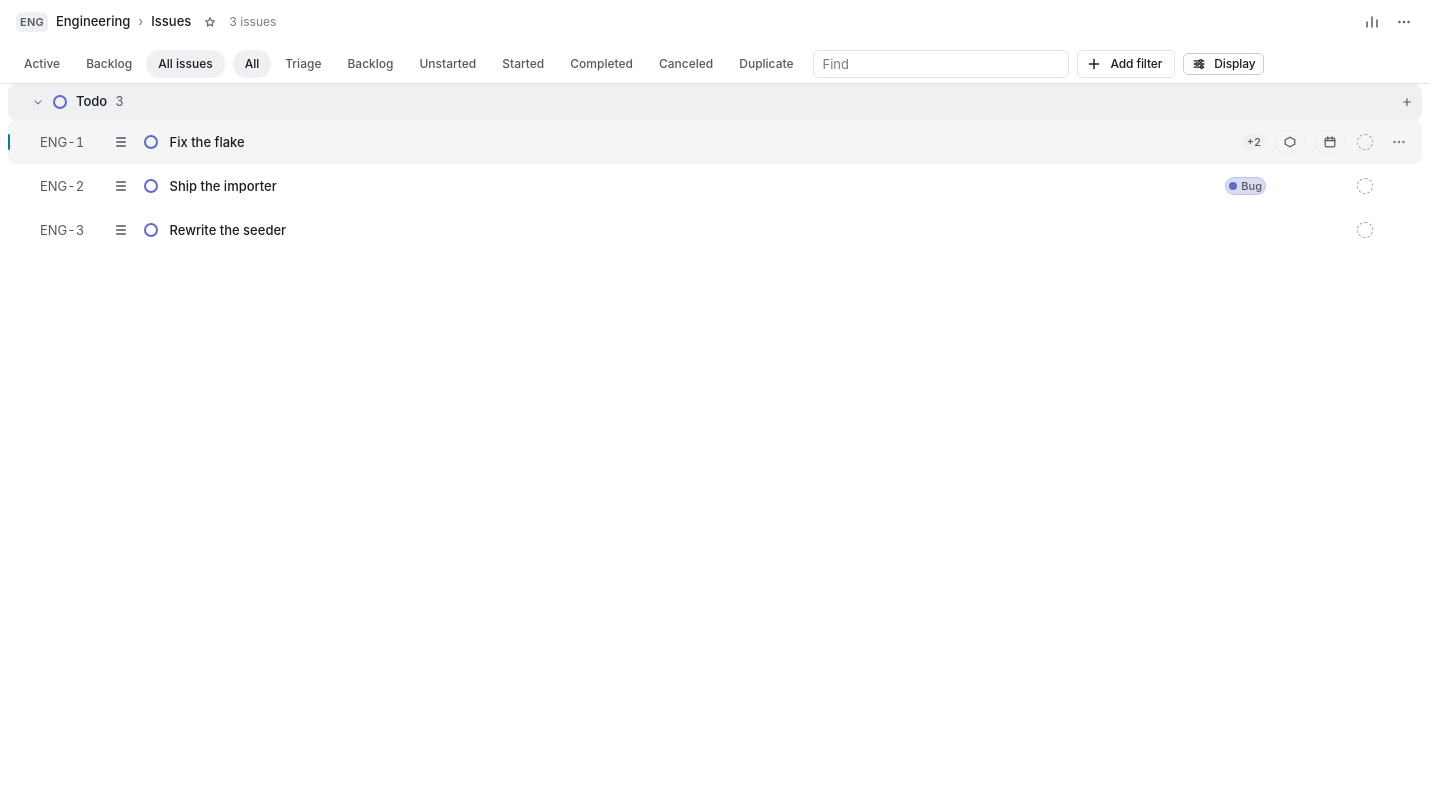
Test: the pointer › opens a menu of the same commands on a right-click
This screenshot has width=1440, height=810.
Right-click the cell "ENG-2 Ship the importer Bug": {"x": 62, "y": 186} left=40, top=175, right=1376, bottom=197
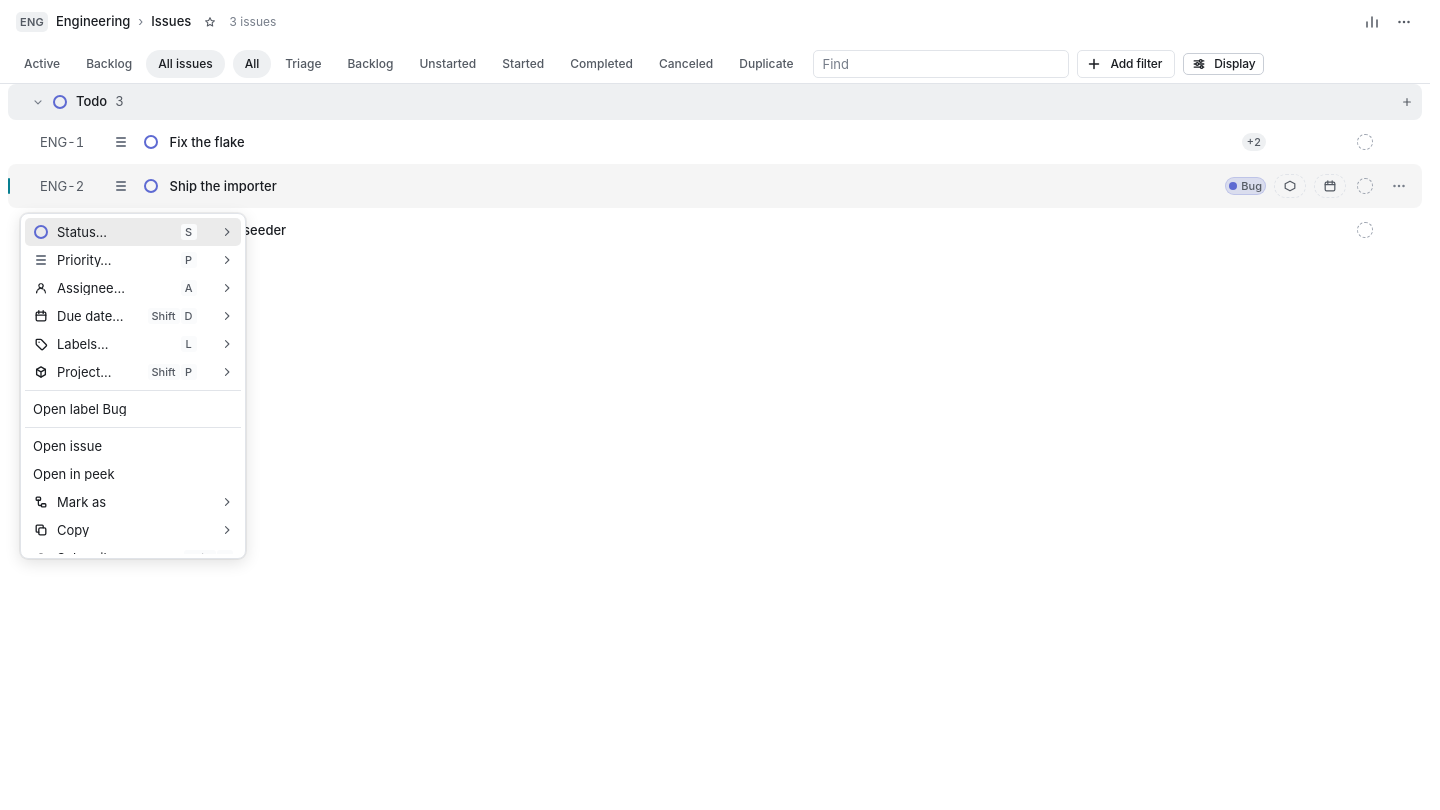
Now the menu item "Copy" is shown, box left=34, top=522, right=232, bottom=538
